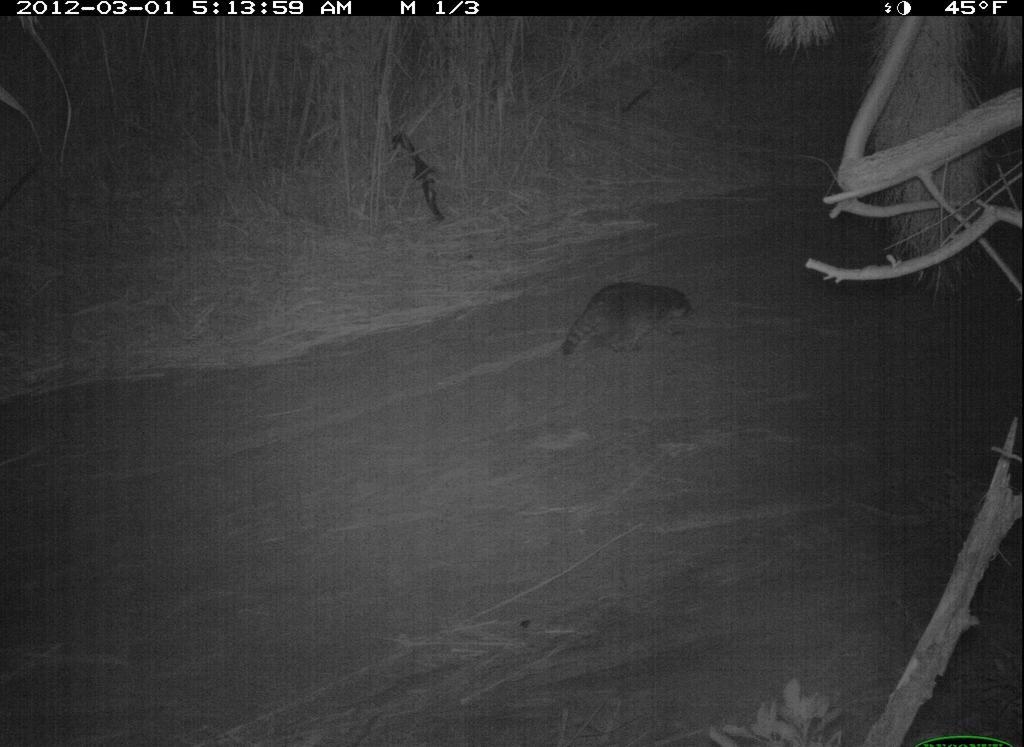raccoon: (555, 276, 698, 374)
